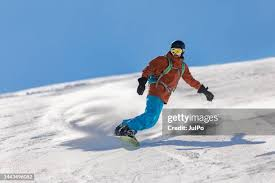snowboard: (112, 131, 141, 147)
